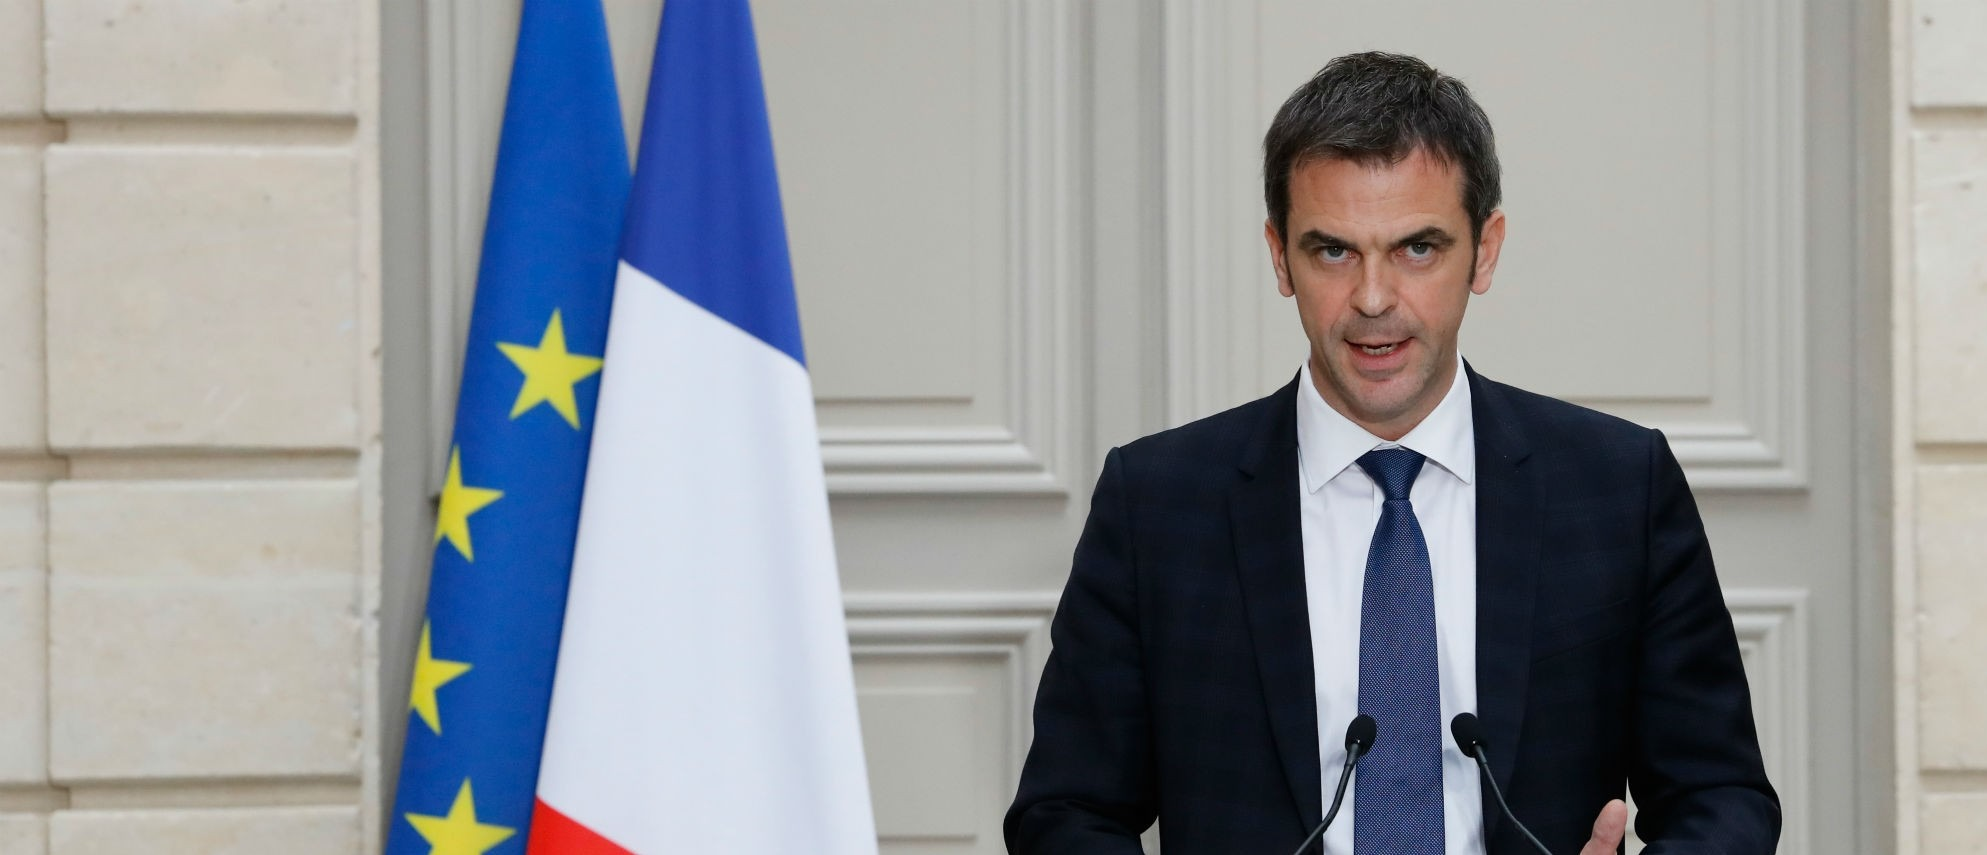without_mask: (1305, 201, 1455, 381)
